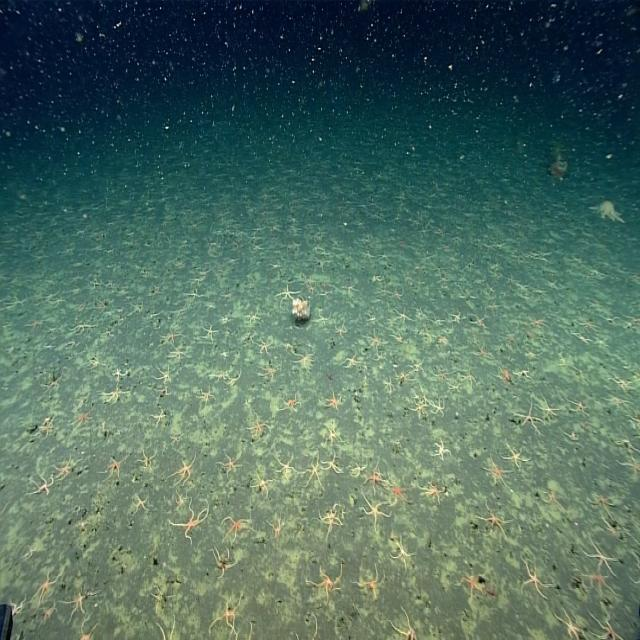brittle-stars: (301, 552, 353, 608), (165, 493, 217, 546), (55, 580, 103, 628), (469, 496, 514, 546), (515, 549, 557, 602), (204, 587, 245, 640), (25, 556, 64, 608), (579, 531, 625, 575), (352, 492, 395, 536), (454, 559, 490, 608), (350, 559, 387, 605), (93, 448, 133, 488), (33, 364, 71, 406), (214, 510, 259, 544), (143, 576, 179, 618), (164, 450, 202, 488), (386, 602, 424, 640), (576, 567, 618, 601), (587, 192, 626, 228), (587, 605, 627, 640), (387, 531, 418, 576), (205, 542, 238, 584), (583, 484, 621, 519), (312, 502, 345, 542), (478, 454, 512, 492), (426, 422, 454, 468), (54, 442, 86, 482), (551, 608, 591, 640), (24, 409, 59, 444), (22, 470, 56, 504), (416, 478, 454, 508), (500, 435, 532, 470), (274, 448, 304, 484), (272, 276, 302, 312), (513, 398, 542, 435), (34, 594, 59, 635), (213, 449, 245, 481), (242, 411, 274, 443), (99, 382, 131, 413), (274, 385, 304, 418), (300, 453, 323, 496), (248, 465, 274, 503), (612, 426, 640, 461), (320, 380, 347, 416), (5, 587, 29, 626), (150, 359, 174, 398), (67, 407, 94, 441), (134, 444, 159, 480), (200, 366, 245, 386), (290, 609, 319, 640), (320, 419, 347, 450), (380, 280, 412, 306), (319, 448, 343, 482), (152, 611, 180, 640), (566, 391, 594, 420), (289, 348, 317, 376), (390, 476, 415, 507), (363, 463, 385, 498), (80, 353, 109, 379), (157, 325, 186, 351), (359, 326, 388, 352), (614, 453, 640, 482), (538, 390, 563, 420), (487, 364, 515, 390), (128, 485, 153, 514), (346, 453, 371, 482), (596, 392, 629, 413), (198, 320, 221, 350), (147, 401, 169, 432), (538, 483, 564, 509), (71, 619, 103, 640), (255, 360, 283, 384), (341, 345, 365, 373), (61, 320, 100, 337), (498, 330, 521, 358), (196, 382, 217, 412), (412, 389, 432, 420), (310, 308, 338, 330), (255, 331, 276, 360), (470, 340, 494, 364), (110, 360, 134, 383), (460, 364, 483, 388), (525, 311, 549, 334), (265, 511, 284, 540), (69, 388, 94, 410), (431, 362, 456, 384), (378, 370, 396, 400), (24, 312, 48, 334), (169, 487, 189, 513), (391, 305, 414, 327), (331, 317, 352, 341), (356, 248, 381, 268), (514, 362, 533, 388), (168, 428, 190, 450), (245, 303, 266, 326), (392, 366, 413, 389), (444, 379, 468, 399), (468, 312, 493, 331), (342, 274, 361, 299), (561, 430, 587, 448), (166, 345, 188, 366), (432, 395, 451, 419), (567, 333, 597, 348), (606, 374, 634, 390), (408, 352, 428, 374), (170, 302, 193, 321), (310, 239, 331, 259), (181, 284, 204, 302), (448, 306, 469, 325), (488, 256, 506, 278), (369, 345, 386, 368), (99, 327, 119, 345), (281, 336, 299, 356), (430, 310, 448, 330), (524, 345, 542, 364), (37, 338, 58, 354), (302, 272, 319, 289), (42, 322, 59, 338), (374, 464, 388, 481), (391, 331, 406, 346), (66, 337, 82, 351), (626, 411, 640, 424)
